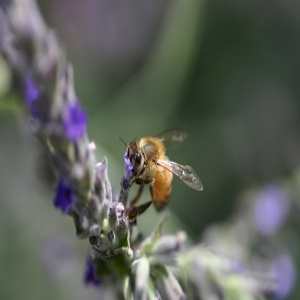bee: (121, 126, 205, 228)
